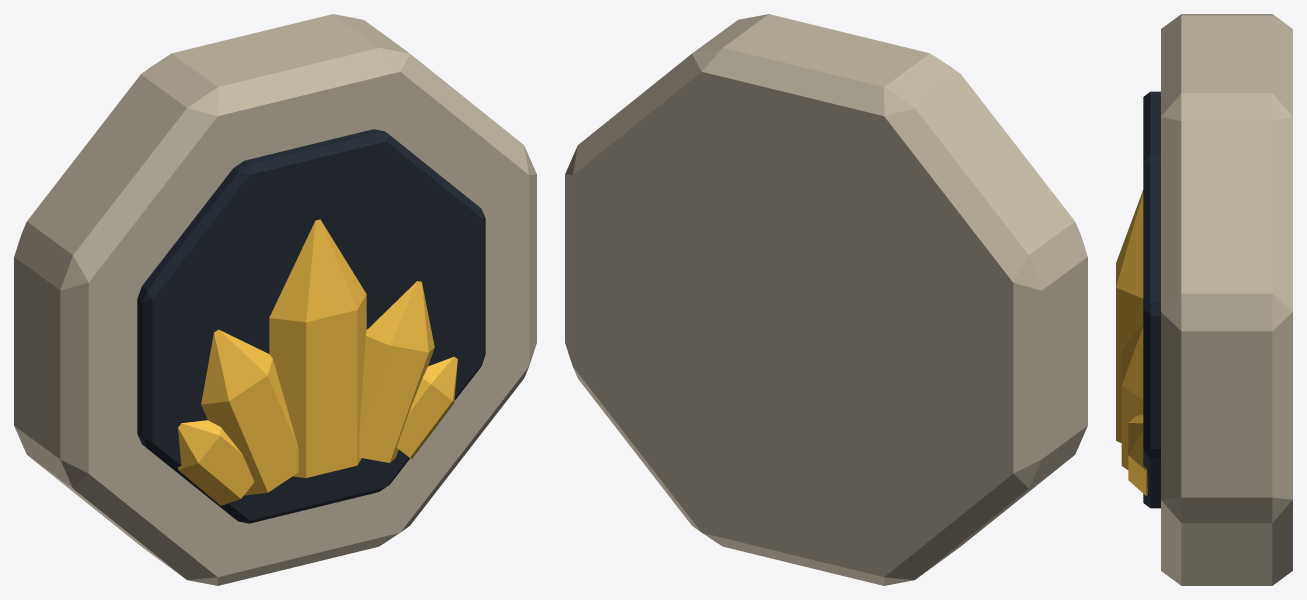
Rendered from Terminal_GeodeEmblem.fbx.
3 renders of one model, left to right at view 1: azimuth 30°, elevation 25°; view 2: azimuth 150°, elevation 25°; view 3: azimuth 270°, elevation 25°, orthographic.
Parts seen in each view (by area): view 1: Concrete, Slate, Crystal; view 2: Concrete; view 3: Concrete, Slate, Crystal.
Boxes of the visible parts, x1,y1,x2,y2 form: Concrete: (14,14,536,585); Slate: (137,129,485,523); Crystal: (178,219,457,505); Concrete: (565,14,1087,585); Concrete: (1161,14,1292,585); Slate: (1143,91,1160,508); Crystal: (1116,190,1147,495).
Bounding box in the file's own units: 2.22 × 2.22 × 0.7237.
